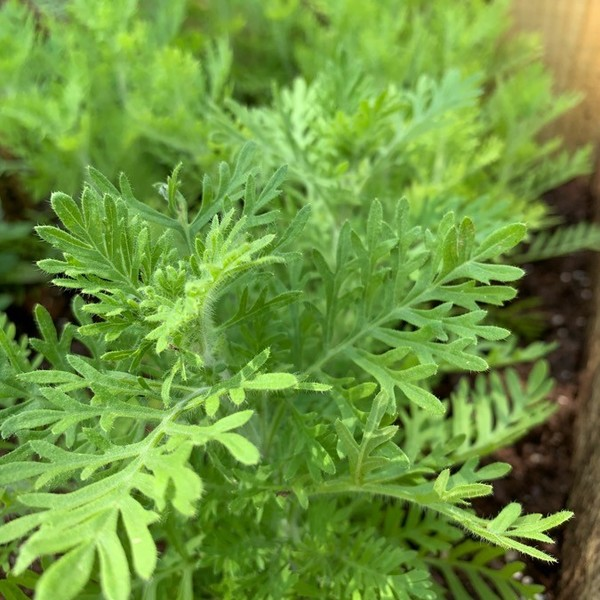obstacle: (86, 148, 541, 592)
